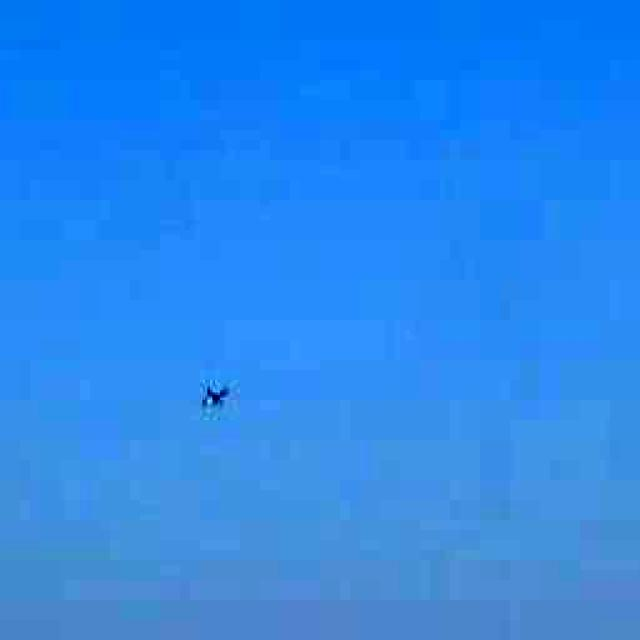bird: (178, 375, 245, 422)
